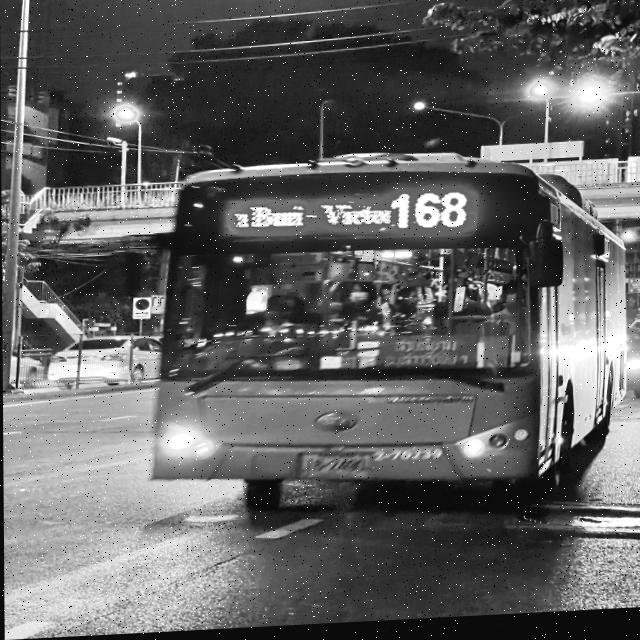BMTA-bus: (150, 161, 630, 514)
Bus Line Number: (389, 194, 468, 238)
Bus Side Number: (371, 448, 446, 467)
Destination Sign: (382, 336, 484, 378)
